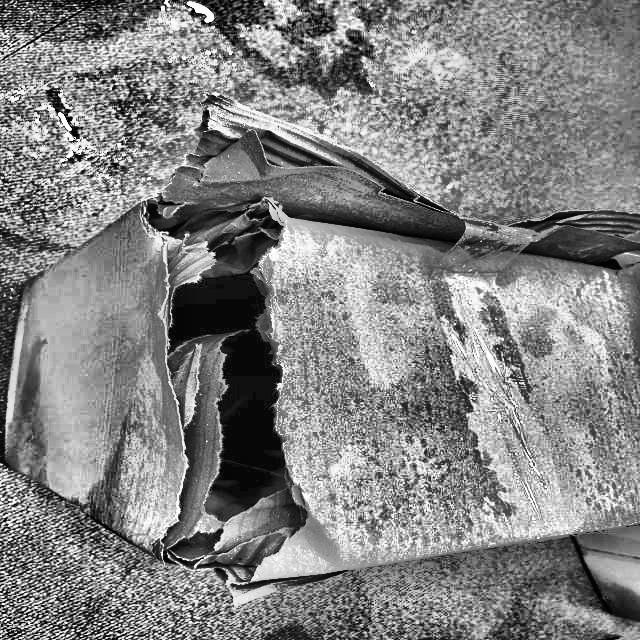box: (26, 149, 640, 562)
hole: (147, 195, 330, 571)
